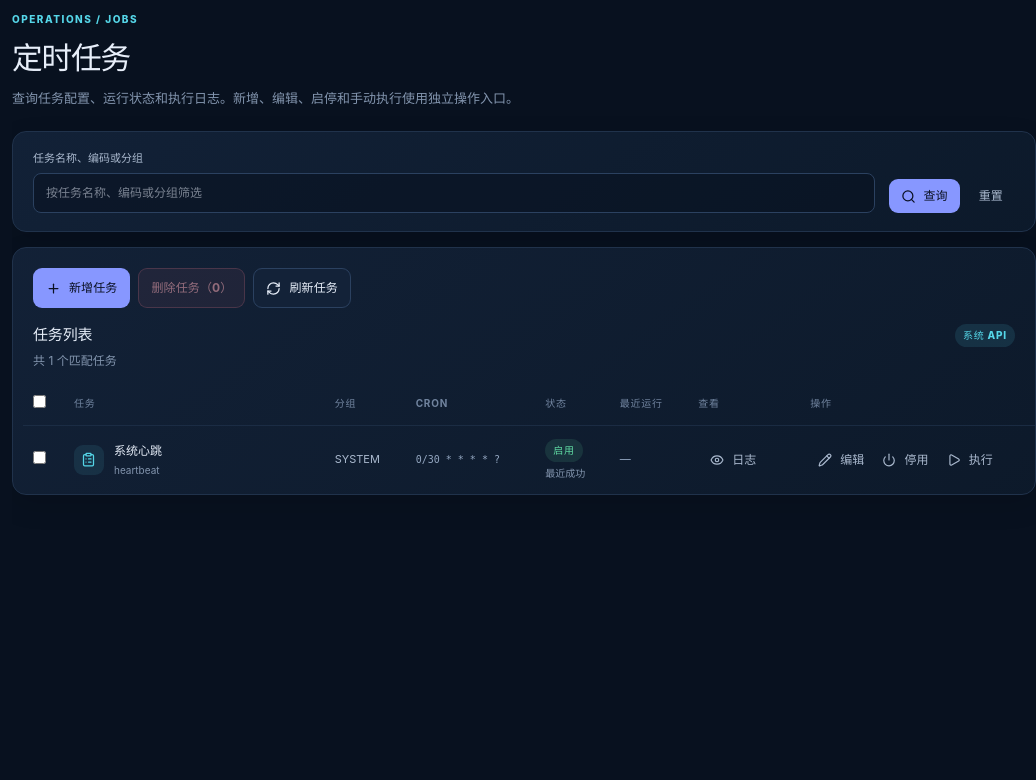
Test: JobsPage › 第一页日志初次读取失败时仍显示原错误状态且不显示上一页
Expected: the text "系统心跳" is shown, [114,442,162,460]
Click the button "日志": (733, 460) [698,443,768,477]
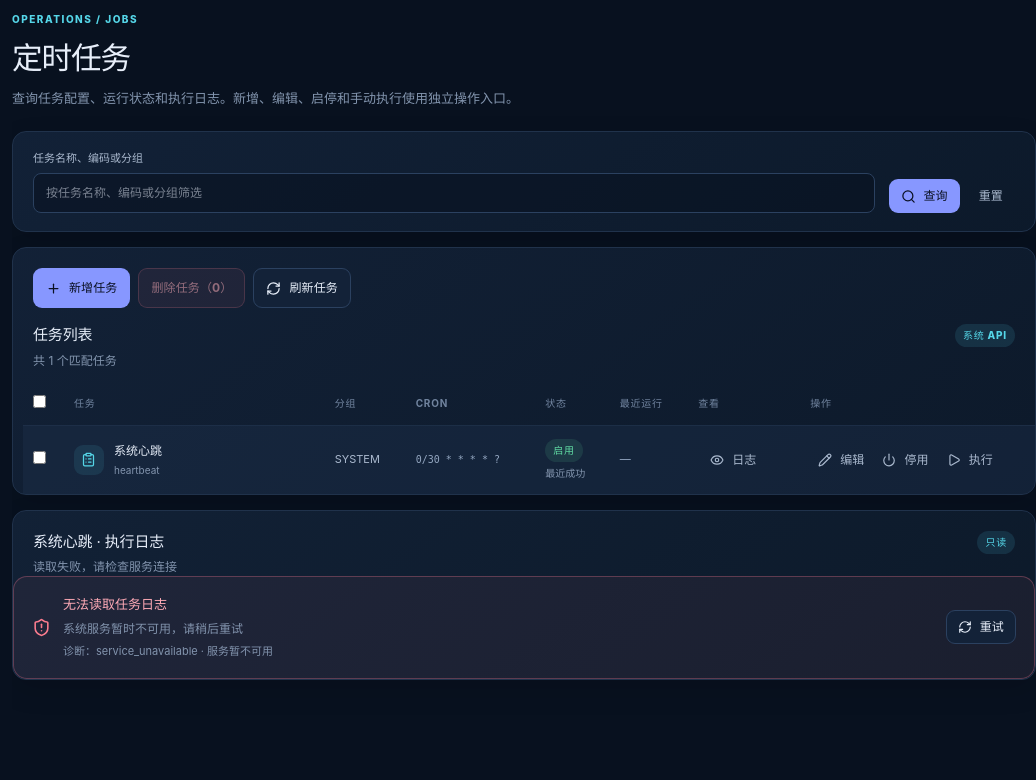
Expected: the text "无法读取任务日志" is shown, [63,596,167,612]
Expected: the button "重试" is enabled, [946,610,1016,644]
